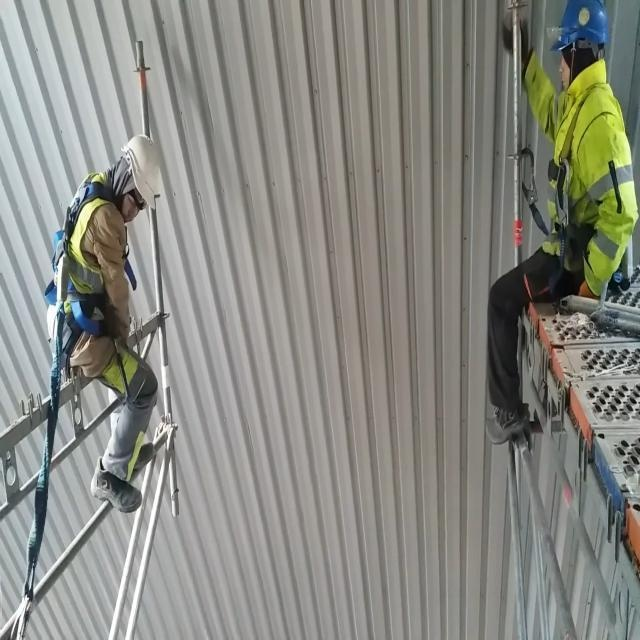Arnes_seguridad: (522, 76, 611, 276), (43, 173, 130, 377)
